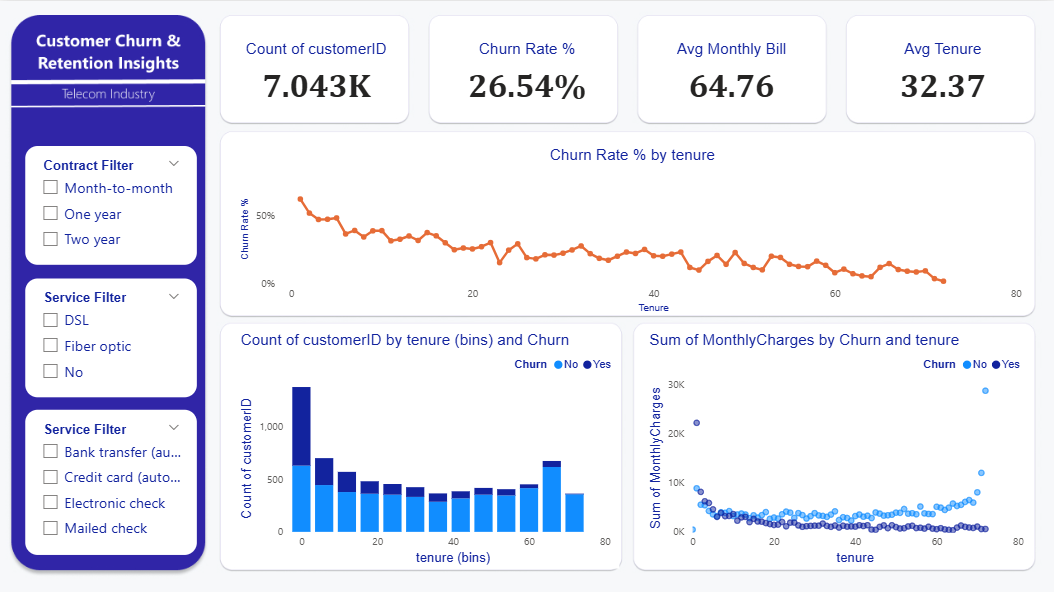

The dashboard page shown, as its layout file describes it:
{"tool":"powerbi","page":{"name":"Page 1","canvas":[1280,720],"ordinal":0},"visuals":[{"type":"cardVisual","fields":{"Data":["CountNonNull(WA_Fn-UseC_-Telco-Customer-Churn.customerID)"]},"box":[272,32,224,96],"z":0},{"type":"cardVisual","fields":{"Data":["WA_Fn-UseC_-Telco-Customer-Churn.Churn Rate %"]},"box":[536,32,208,96],"z":1000},{"type":"cardVisual","fields":{"Data":["Avg(WA_Fn-UseC_-Telco-Customer-Churn.MonthlyCharges)"]},"box":[800,32,176,96],"z":2000},{"type":"cardVisual","fields":{"Data":["Avg(WA_Fn-UseC_-Telco-Customer-Churn.tenure)"]},"box":[1056,32,176,96],"z":3000},{"type":"slicer","fields":{"Values":["WA_Fn-UseC_-Telco-Customer-Churn.Contract"]},"box":[32,176,208,144],"z":4000},{"type":"slicer","fields":{"Values":["WA_Fn-UseC_-Telco-Customer-Churn.InternetService"]},"box":[32,336,208,144],"z":5000},{"type":"lineChart","fields":{"Category":["WA_Fn-UseC_-Telco-Customer-Churn.tenure"],"Y":["WA_Fn-UseC_-Telco-Customer-Churn.Churn Rate %"]},"box":[288,176,960,208],"z":6000},{"type":"columnChart","fields":{"Category":["WA_Fn-UseC_-Telco-Customer-Churn.tenure (bins)"],"Y":["CountNonNull(WA_Fn-UseC_-Telco-Customer-Churn.customerID)"],"Series":["WA_Fn-UseC_-Telco-Customer-Churn.Churn"]},"box":[288,400,464,288],"z":7000},{"type":"scatterChart","fields":{"X":["WA_Fn-UseC_-Telco-Customer-Churn.tenure"],"Y":["Sum(WA_Fn-UseC_-Telco-Customer-Churn.MonthlyCharges)"],"Series":["WA_Fn-UseC_-Telco-Customer-Churn.Churn"]},"box":[784,400,464,288],"z":8000},{"type":"slicer","fields":{"Values":["WA_Fn-UseC_-Telco-Customer-Churn.PaymentMethod"]},"box":[32,496,208,176],"z":8001}]}

Visuals, with their boxes in screenshot pixels (x1, y1, x2, y2), scaled from the page's 1280x720 canvas onto the 1054x592 screenshot:
cardVisual - CountNonNull(WA_Fn-UseC_-Telco-Customer-Churn.customerID): bbox=[224, 26, 408, 105]
cardVisual - WA_Fn-UseC_-Telco-Customer-Churn.Churn Rate %: bbox=[441, 26, 613, 105]
cardVisual - Avg(WA_Fn-UseC_-Telco-Customer-Churn.MonthlyCharges): bbox=[659, 26, 804, 105]
cardVisual - Avg(WA_Fn-UseC_-Telco-Customer-Churn.tenure): bbox=[870, 26, 1014, 105]
slicer - WA_Fn-UseC_-Telco-Customer-Churn.Contract: bbox=[26, 145, 198, 263]
slicer - WA_Fn-UseC_-Telco-Customer-Churn.InternetService: bbox=[26, 276, 198, 395]
lineChart - WA_Fn-UseC_-Telco-Customer-Churn.tenure x WA_Fn-UseC_-Telco-Customer-Churn.Churn Rate %: bbox=[237, 145, 1028, 316]
columnChart - WA_Fn-UseC_-Telco-Customer-Churn.tenure (bins) x CountNonNull(WA_Fn-UseC_-Telco-Customer-Churn.customerID): bbox=[237, 329, 619, 566]
scatterChart - WA_Fn-UseC_-Telco-Customer-Churn.tenure x Sum(WA_Fn-UseC_-Telco-Customer-Churn.MonthlyCharges): bbox=[646, 329, 1028, 566]
slicer - WA_Fn-UseC_-Telco-Customer-Churn.PaymentMethod: bbox=[26, 408, 198, 553]
